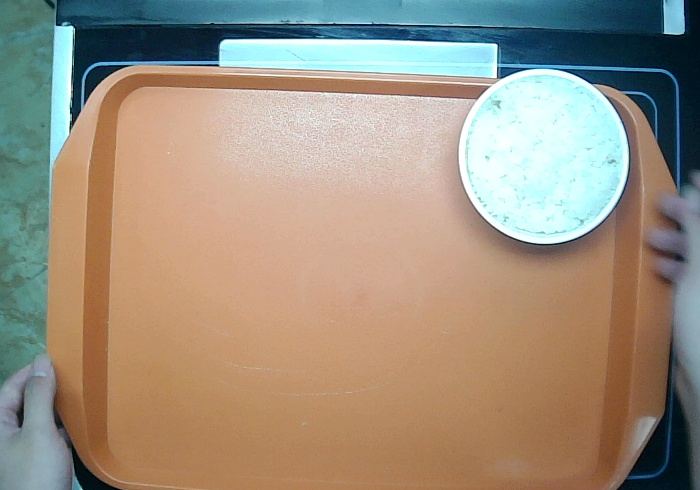HZYJPL-Fan_Wan: (451, 61, 639, 253)
